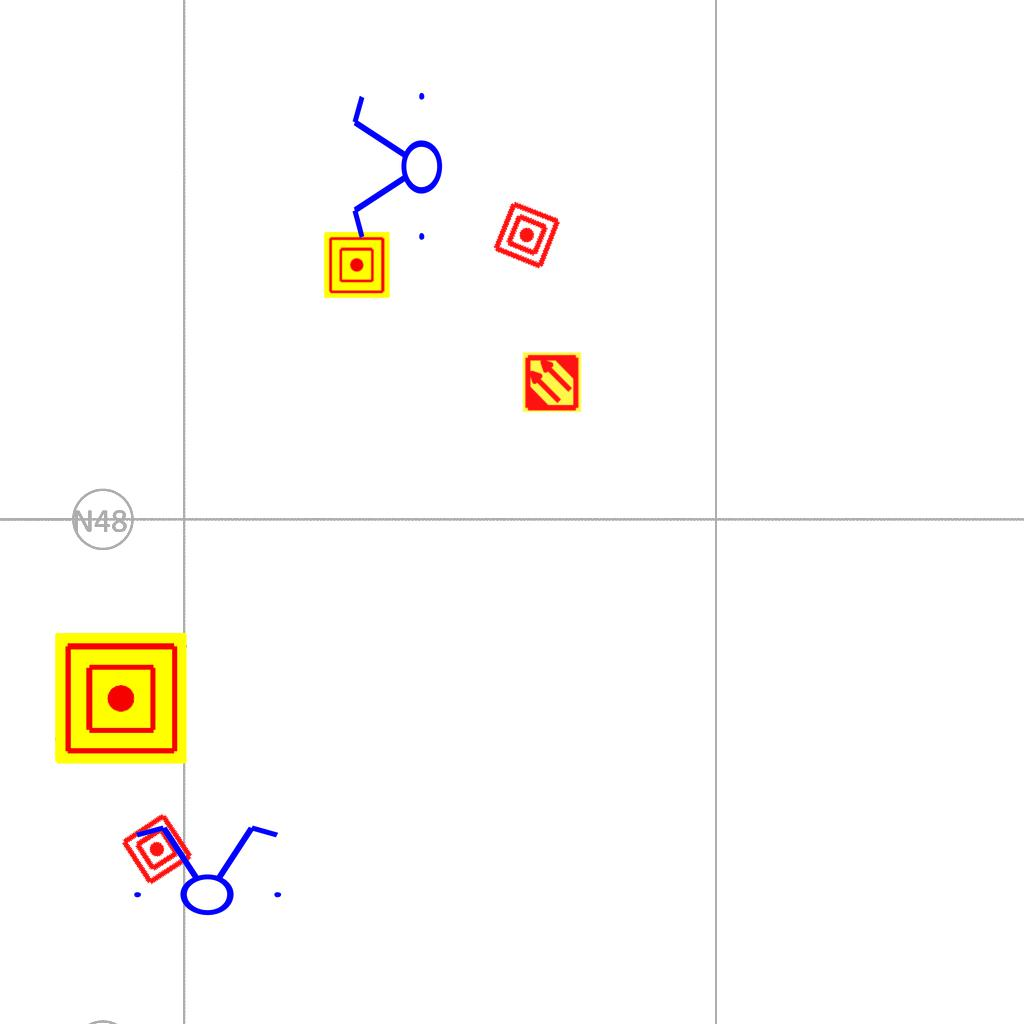ASR_Ansaugrauchmelder: (521, 351, 583, 413)
NAM-Nichtautomatischer_Melder: (55, 632, 187, 764), (118, 810, 196, 888), (490, 198, 564, 272), (324, 232, 390, 298)
Serienschalter: (348, 84, 444, 252), (122, 821, 290, 917)
